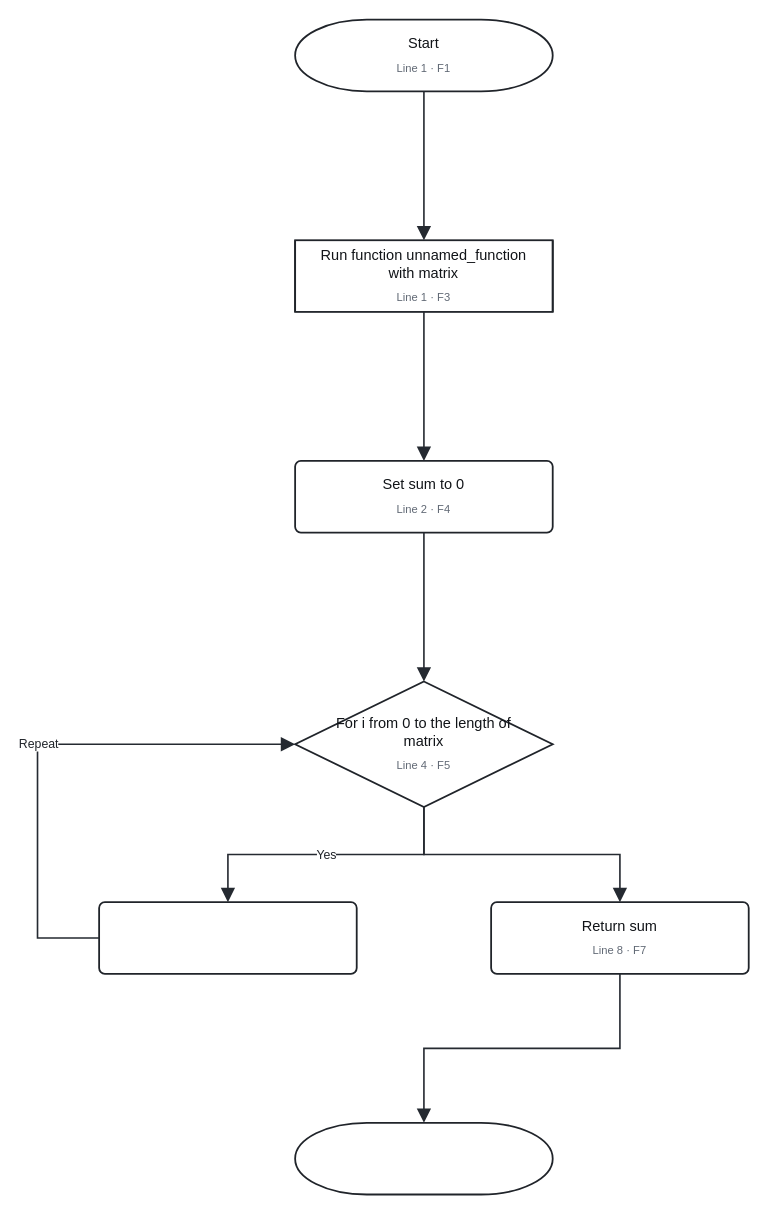
Some shapes in this 769 by 1215 pixel diagram are drawn without their labels. Each missing label, with the centre of its shape:
End Line 1 · F2: [423,1158]
Set sum to sum plus item i of item i of matrix Line 5 · F6: [227,937]
